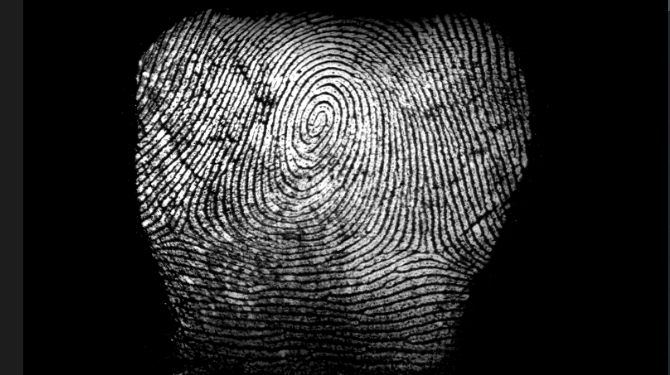deltas: (161, 198, 209, 255), (401, 221, 452, 268)
nucleo: (299, 100, 345, 145)
